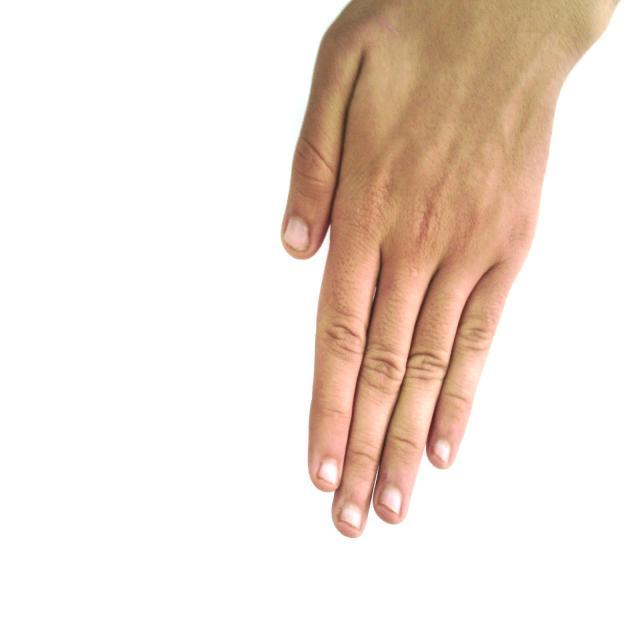Fingernail: (285, 217, 309, 251), (380, 487, 401, 514), (341, 504, 361, 527), (319, 460, 338, 484), (434, 441, 450, 465)
